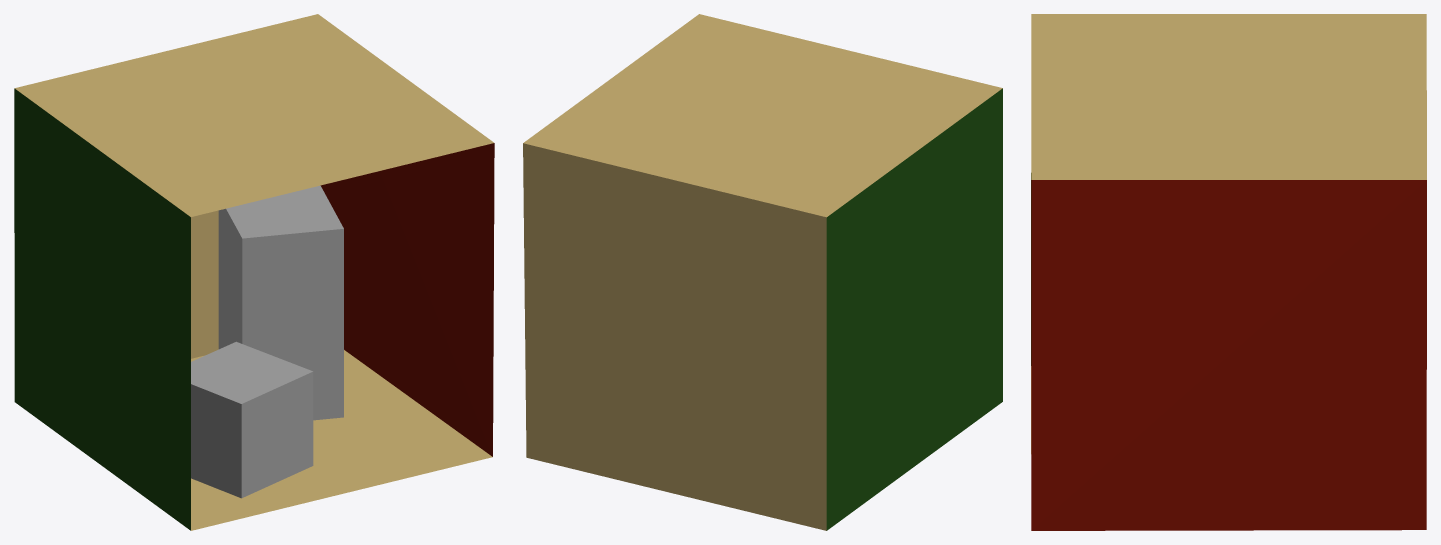
Rendered from cornellbox.obj.
3 renders of one model, left to right at view 1: azimuth 30°, elevation 25°; view 2: azimuth 150°, elevation 25°; view 3: azimuth 270°, elevation 25°, orthographic. The views are drawn at different scales.
Parts seen in each view (by area): view 1: white, green, metal, red; view 2: white, green; view 3: red, white.
Boxes of the visible parts, x1=… form: white: x1=15, y1=14, x2=493, y2=530; green: x1=14, y1=88, x2=190, y2=530; metal: x1=191, y1=185, x2=343, y2=498; red: x1=320, y1=143, x2=494, y2=456; white: x1=523, y1=14, x2=1002, y2=530; green: x1=826, y1=88, x2=1002, y2=530; red: x1=1031, y1=180, x2=1426, y2=530; white: x1=1031, y1=14, x2=1426, y2=453.
Bounding box in the file's own units: 0.7808 × 0.7709 × 0.7855.
